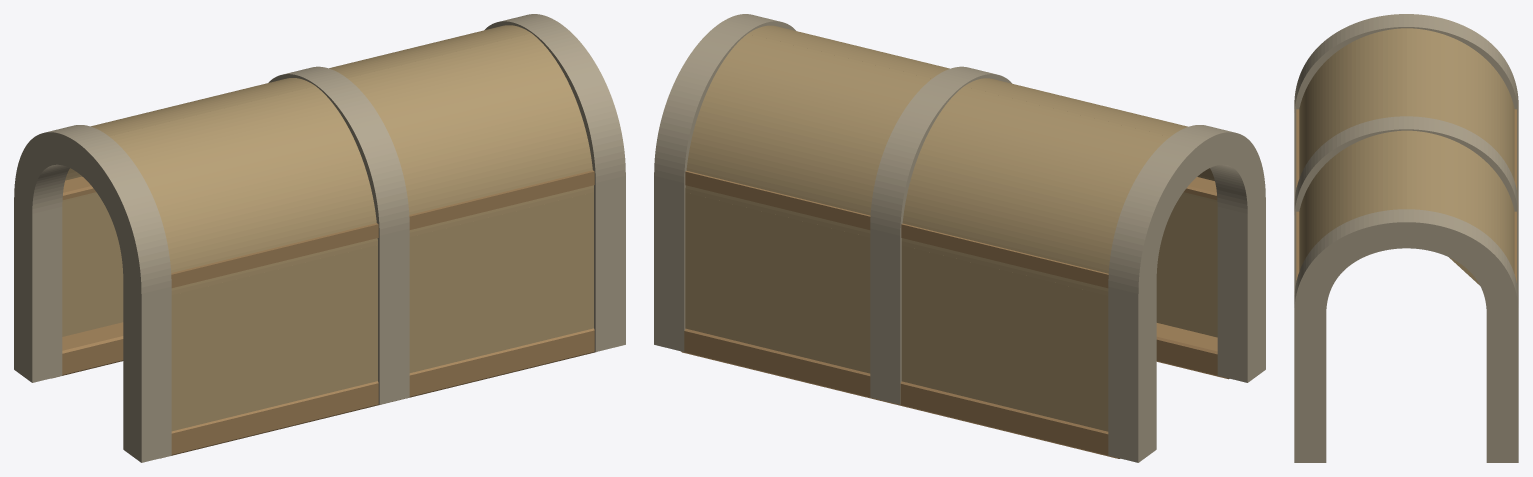
The model's file is temple-lane-2.fbx.
The picture shows the model from 3 angles, left to right: view 1: azimuth 30°, elevation 25°; view 2: azimuth 150°, elevation 25°; view 3: azimuth 270°, elevation 25°; orthographic projection. The views are drawn at different scales.
Parts seen in each view (by area): view 1: tekli arc.003; view 2: tekli arc.003; view 3: tekli arc.003.
Part boxes in pixels (box(x1,y1,x2,y2)): tekli arc.003: box(14, 14, 625, 462); tekli arc.003: box(654, 14, 1265, 462); tekli arc.003: box(1294, 14, 1518, 462).
Bounding box in the file's own units: 57.19 × 31.08 × 26.05.
